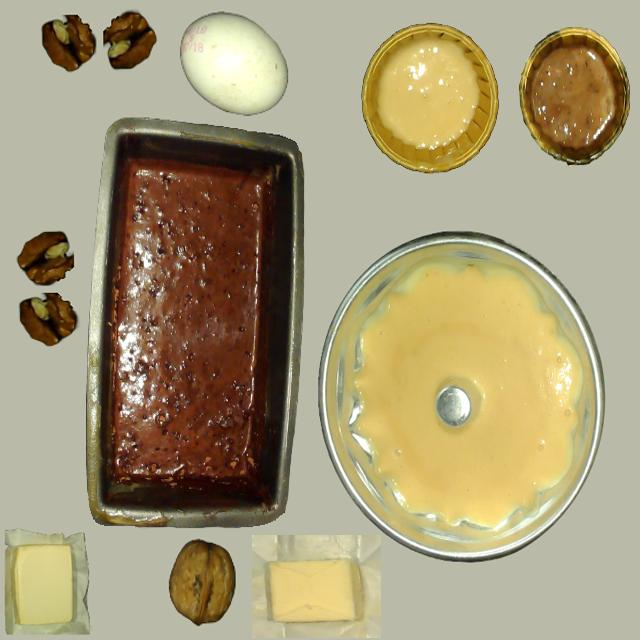Walnut: (168, 542, 240, 626)
